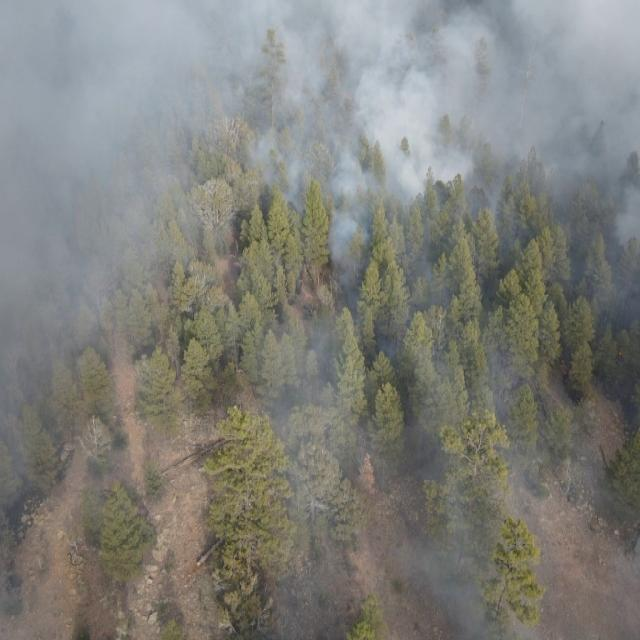fire: (612, 340, 632, 364)
smoke: (266, 231, 640, 640), (0, 0, 640, 229), (0, 226, 163, 639), (164, 230, 263, 298)
